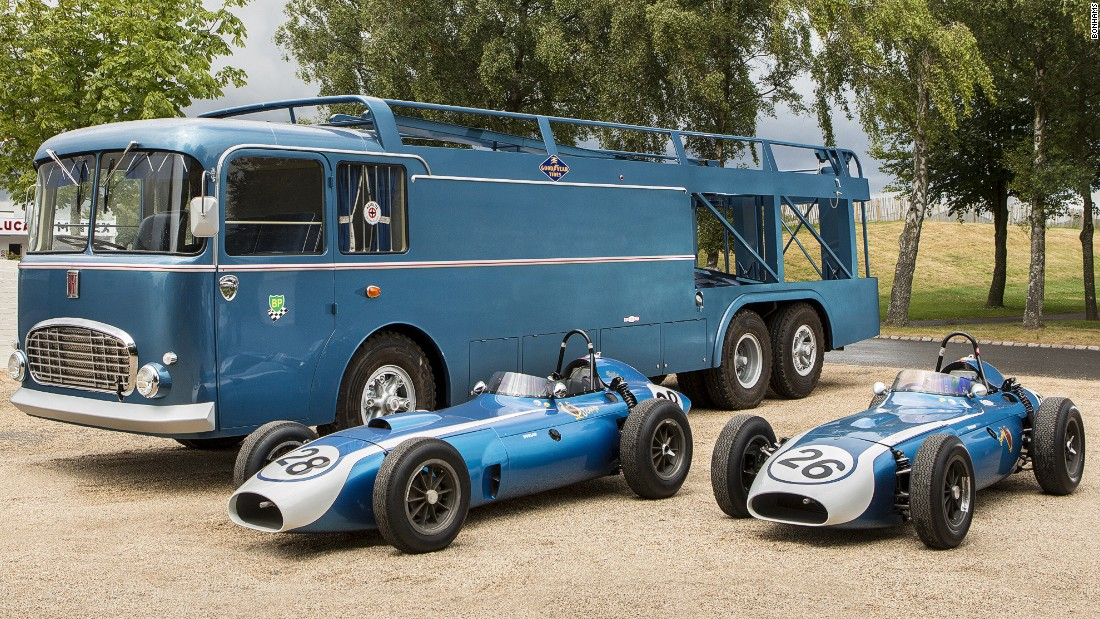f1_car: (214, 320, 702, 570), (708, 322, 1097, 562)
